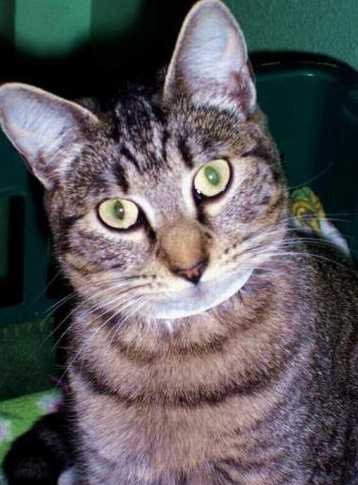Cat: (6, 6, 357, 484)
